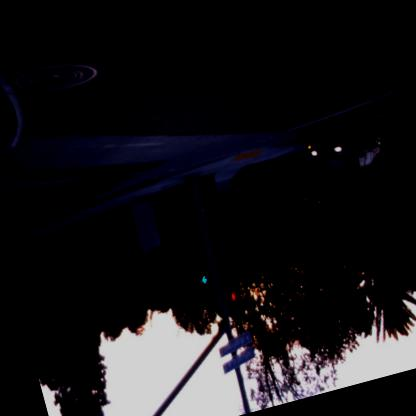trafficlight: (215, 259, 245, 311), (195, 268, 222, 316)
